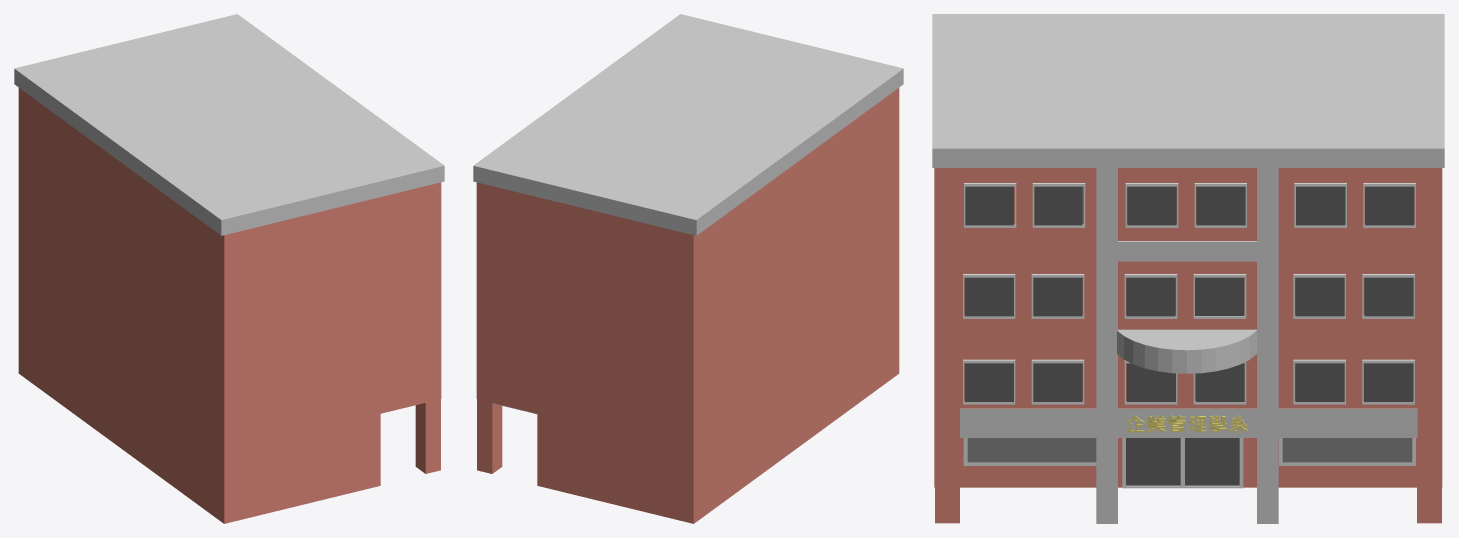
The model's file is 企管系.fbx.
3 renders of one model, left to right at view 1: azimuth 30°, elevation 25°; view 2: azimuth 150°, elevation 25°; view 3: azimuth 270°, elevation 25°, orthographic. The views are drawn at different scales.
Parts seen in each view (by area): view 1: 立方體.002, 立方體.001; view 2: 立方體.002, 立方體.001; view 3: 立方體.001, 立方體.002, 立方體.003, 立方體, 圓柱體, 立方體.011, 立方體.009, 立方體.004, 立方體.008, 立方體.032, 立方體.038, 立方體.040 (+20 smaller).
Boxes of the visible parts, bbox=[...] form: 立方體.002: bbox=[18, 88, 441, 523]; 立方體.001: bbox=[14, 14, 444, 235]; 立方體.002: bbox=[476, 88, 899, 523]; 立方體.001: bbox=[473, 14, 903, 235]; 立方體.001: bbox=[932, 14, 1444, 167]; 立方體.002: bbox=[934, 168, 1442, 523]; 立方體.003: bbox=[1096, 168, 1278, 523]; 立方體: bbox=[960, 408, 1417, 437]; 圓柱體: bbox=[1117, 329, 1256, 373]; 立方體.011: bbox=[1282, 438, 1412, 462]; 立方體.009: bbox=[967, 438, 1096, 462]; 立方體.004: bbox=[1126, 438, 1180, 485]; 立方體.008: bbox=[1185, 438, 1239, 485]; 立方體.032: bbox=[1033, 277, 1082, 316]; 立方體.038: bbox=[1126, 277, 1175, 316]; 立方體.040: bbox=[1295, 277, 1344, 316].
Bounding box in the file's own units: 1056 × 1208 × 1487.
